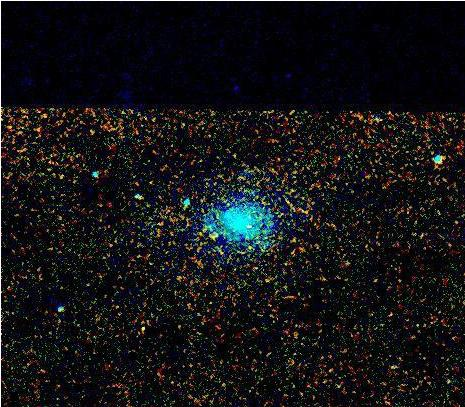star: (195, 220, 225, 250)
